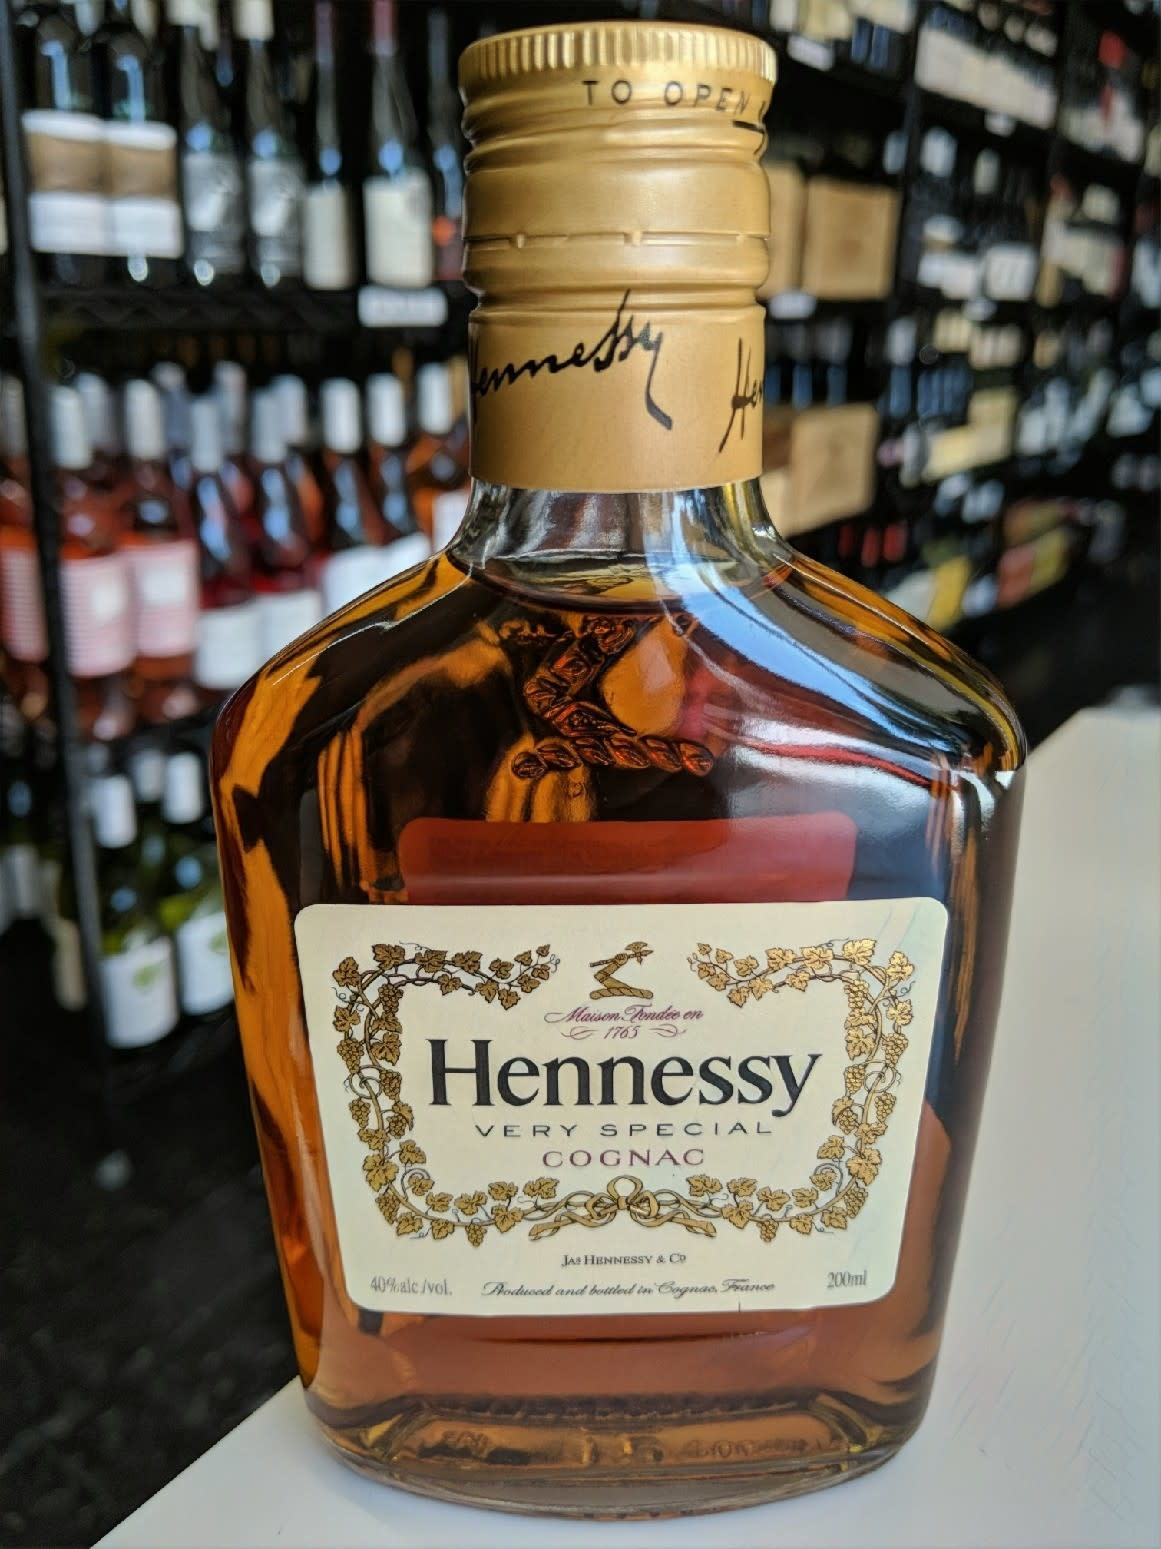Hennessy: (162, 9, 1066, 1548)
